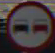No overtake: (3, 3, 51, 44)
